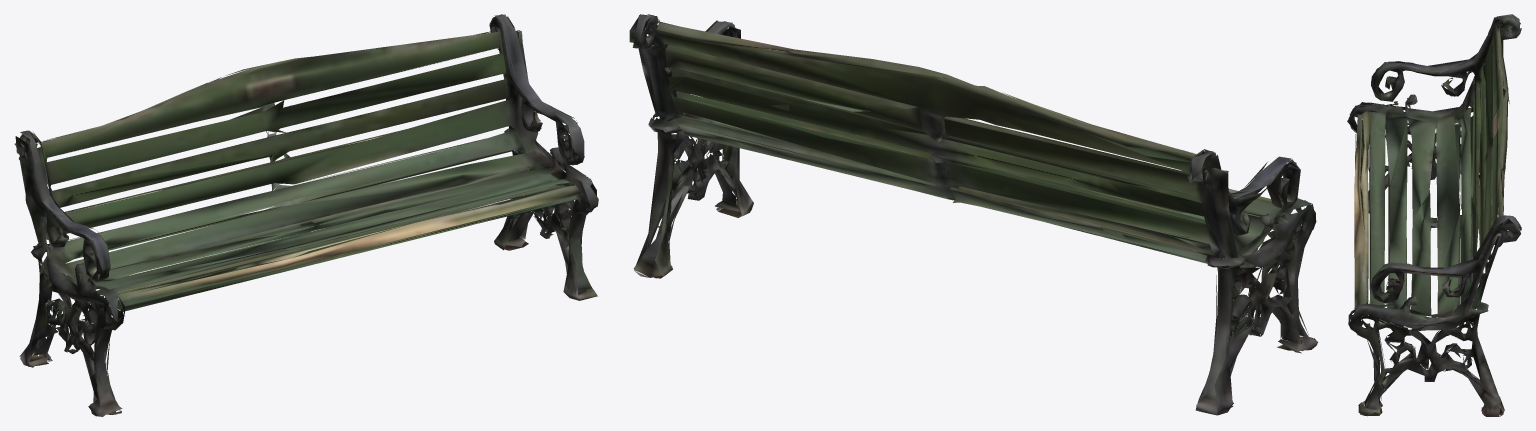
Rendered from banco_plaza_1940.movil.glb.
3 views of the same model, side by side, from view 1: azimuth 30°, elevation 25°; view 2: azimuth 150°, elevation 25°; view 3: azimuth 270°, elevation 25° (orthographic). The views are drawn at different scales.
Visible parts, largest first — view 1: geometry_0; view 2: geometry_0; view 3: geometry_0.
Part boxes in pixels (x1,y1,x2,y2): geometry_0: [14, 14, 598, 416]; geometry_0: [629, 14, 1318, 415]; geometry_0: [1347, 14, 1521, 416].
Bounding box in the file's own units: 1.9 × 0.8486 × 0.6545.
1 material, 1 textured.
